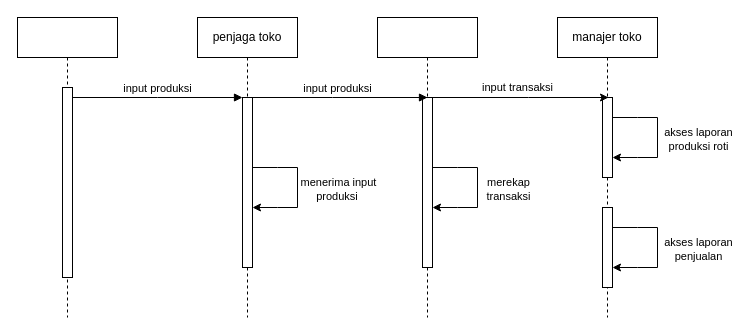
The diagram is 750 pixels wide and 335 high, and some of its shapes have lost their labels. The box of each missing label's shape, as (x1, y1, x2, y2) in pixels:
karyawan: (16, 16, 118, 318)
kasir: (376, 16, 478, 318)
